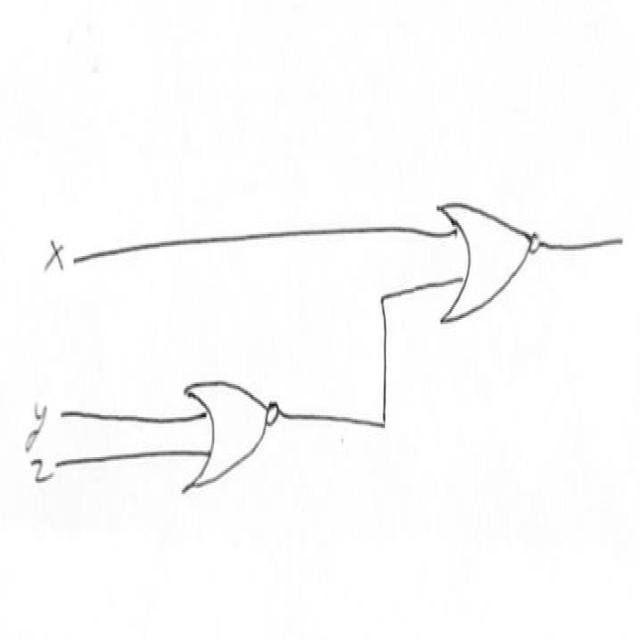NOR: (170, 354, 302, 505), (423, 187, 550, 341)
